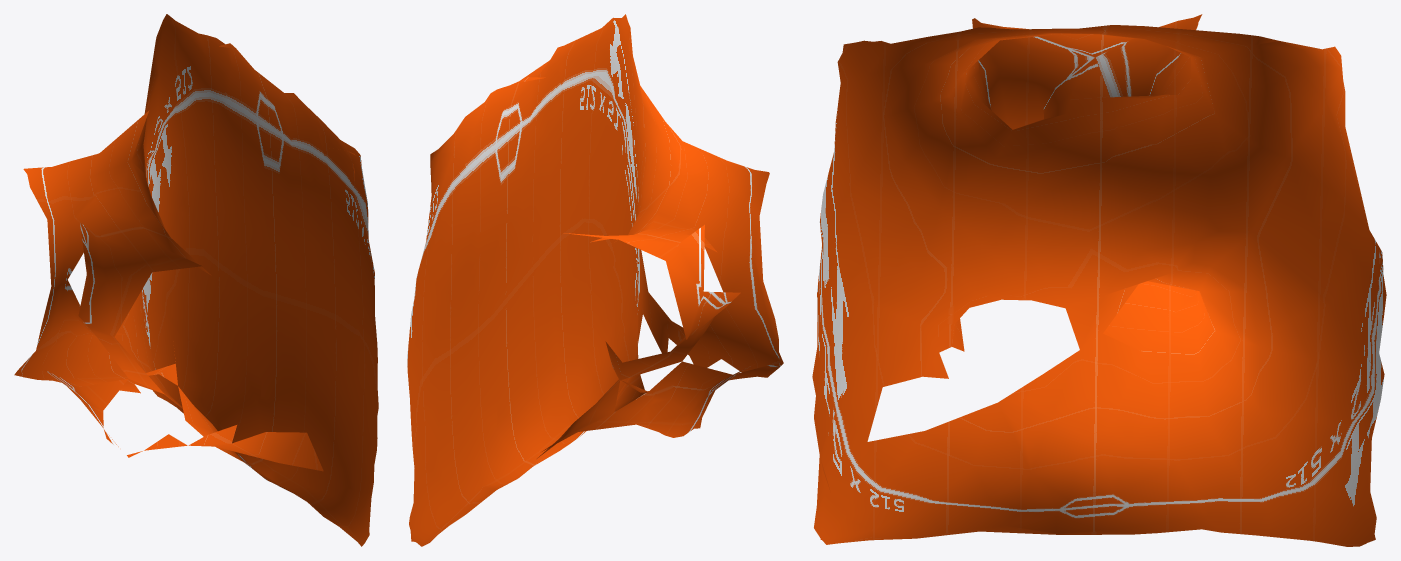
The picture shows the model from 3 angles, left to right: view 1: azimuth 30°, elevation 25°; view 2: azimuth 150°, elevation 25°; view 3: azimuth 270°, elevation 25°; orthographic projection. The views are drawn at different scales.
Visible parts, largest first — view 1: Renderer Node; view 2: Renderer Node; view 3: Renderer Node.
Boxes of the visible parts, x1,y1,x2,y2 form: Renderer Node: [14, 14, 378, 546]; Renderer Node: [407, 14, 783, 546]; Renderer Node: [812, 14, 1386, 546].
Size of the model in its own units: 0.3539 by 0.5797 by 0.5819.
1 material, 1 textured.
